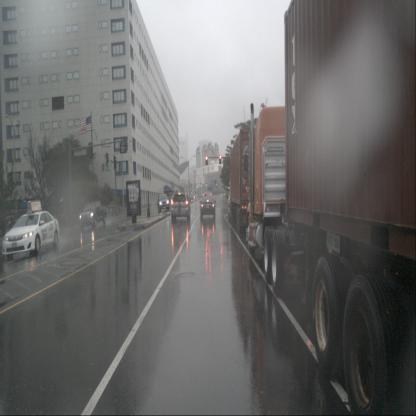vehicle-car: (2, 211, 60, 259), (171, 193, 191, 221), (200, 195, 216, 219)
vehicle-truck: (246, 107, 326, 295), (79, 200, 108, 231), (157, 194, 170, 212)
